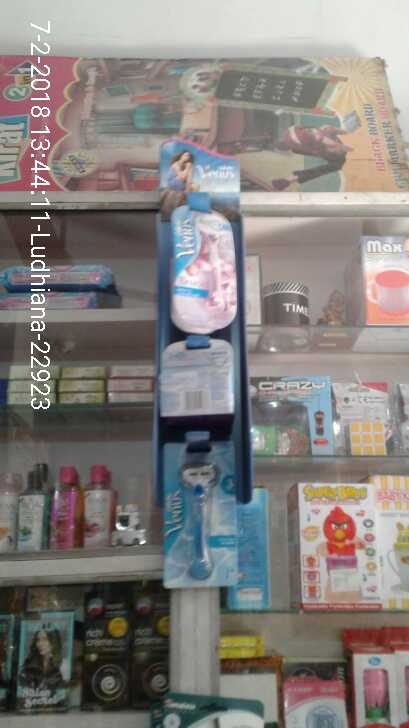venus: (157, 443, 236, 589), (172, 206, 236, 325)
